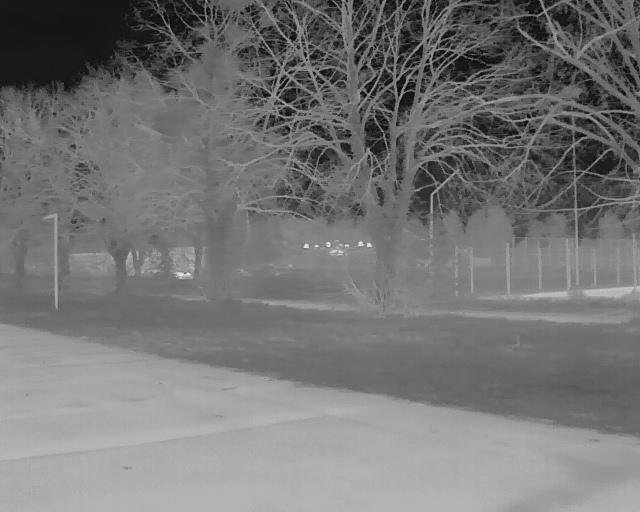drone: (298, 229, 380, 287)
